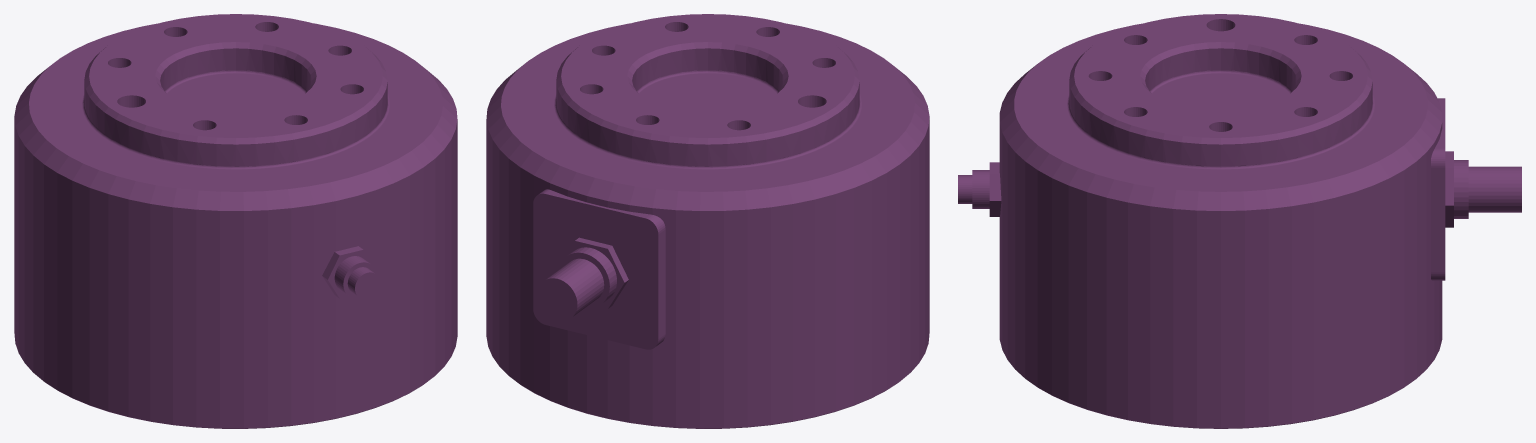
The model's file is FanucCRX10IALink6.dae.
3 renders of one model, left to right at view 1: azimuth 30°, elevation 25°; view 2: azimuth 150°, elevation 25°; view 3: azimuth 270°, elevation 25°, orthographic.
Parts seen in each view (by area): view 1: CRX10IALink6; view 2: CRX10IALink6; view 3: CRX10IALink6.
Boxes of the visible parts, <box> form: CRX10IALink6: <box>14,14,457,428</box>; CRX10IALink6: <box>486,14,929,428</box>; CRX10IALink6: <box>958,14,1521,428</box>.
Bounding box in the file's own units: 0.092 × 0.1171 × 0.0595.
